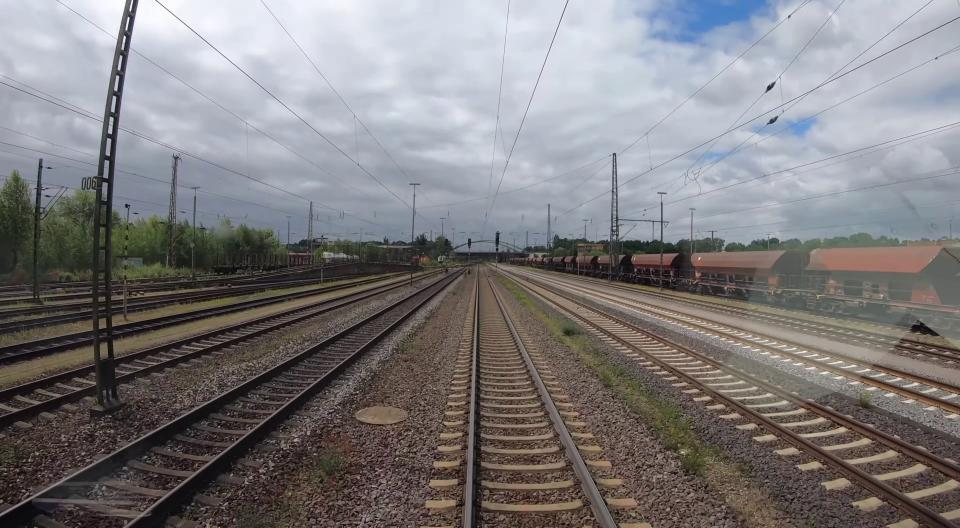Plant: (619, 379, 708, 476), (498, 277, 535, 309), (315, 453, 344, 476), (598, 366, 625, 388), (560, 318, 580, 336), (858, 395, 872, 409)
